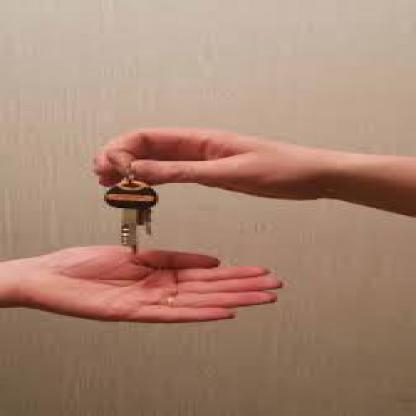keys: (100, 178, 167, 257)
